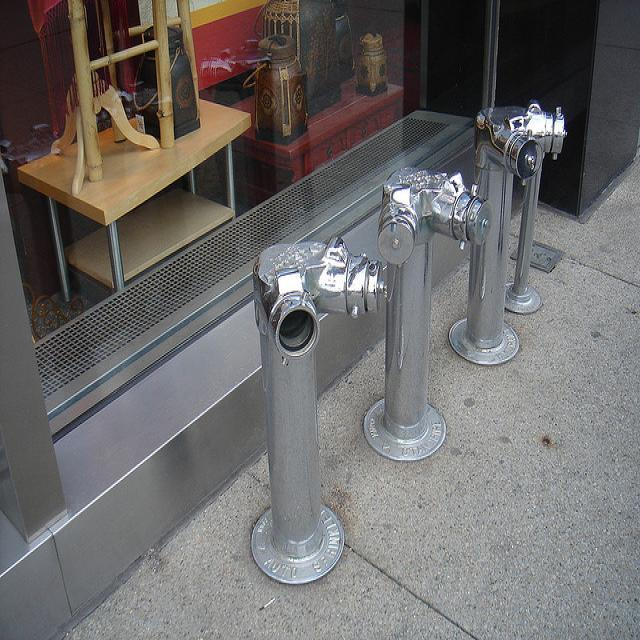fire_hydrant: (248, 236, 386, 587), (359, 177, 491, 472), (449, 102, 542, 362), (508, 102, 565, 314)
